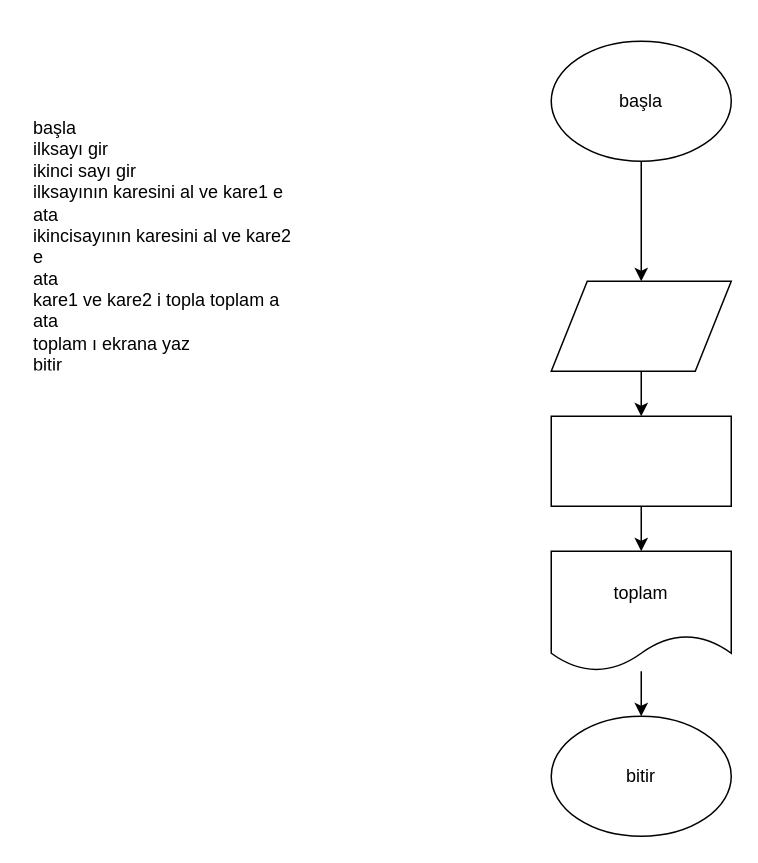
The diagram is 758 pixels wide and 863 high, and some of its shapes have lost their labels. Each missing label, with the box of its shape:
ilksayı ikincisayı: (550, 280, 731, 371)
kare1=ilksayı^2 kare2=ikincisayı^2 toplam=kare1+kare2: (550, 415, 731, 506)
